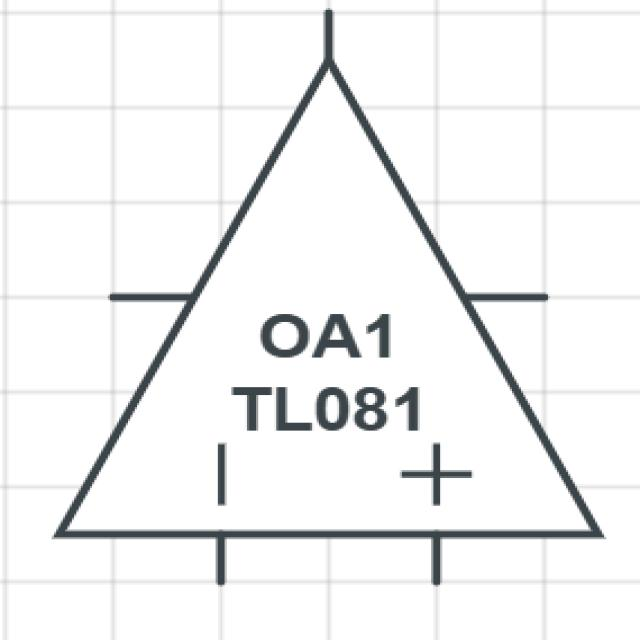ic: (16, 4, 624, 608)
